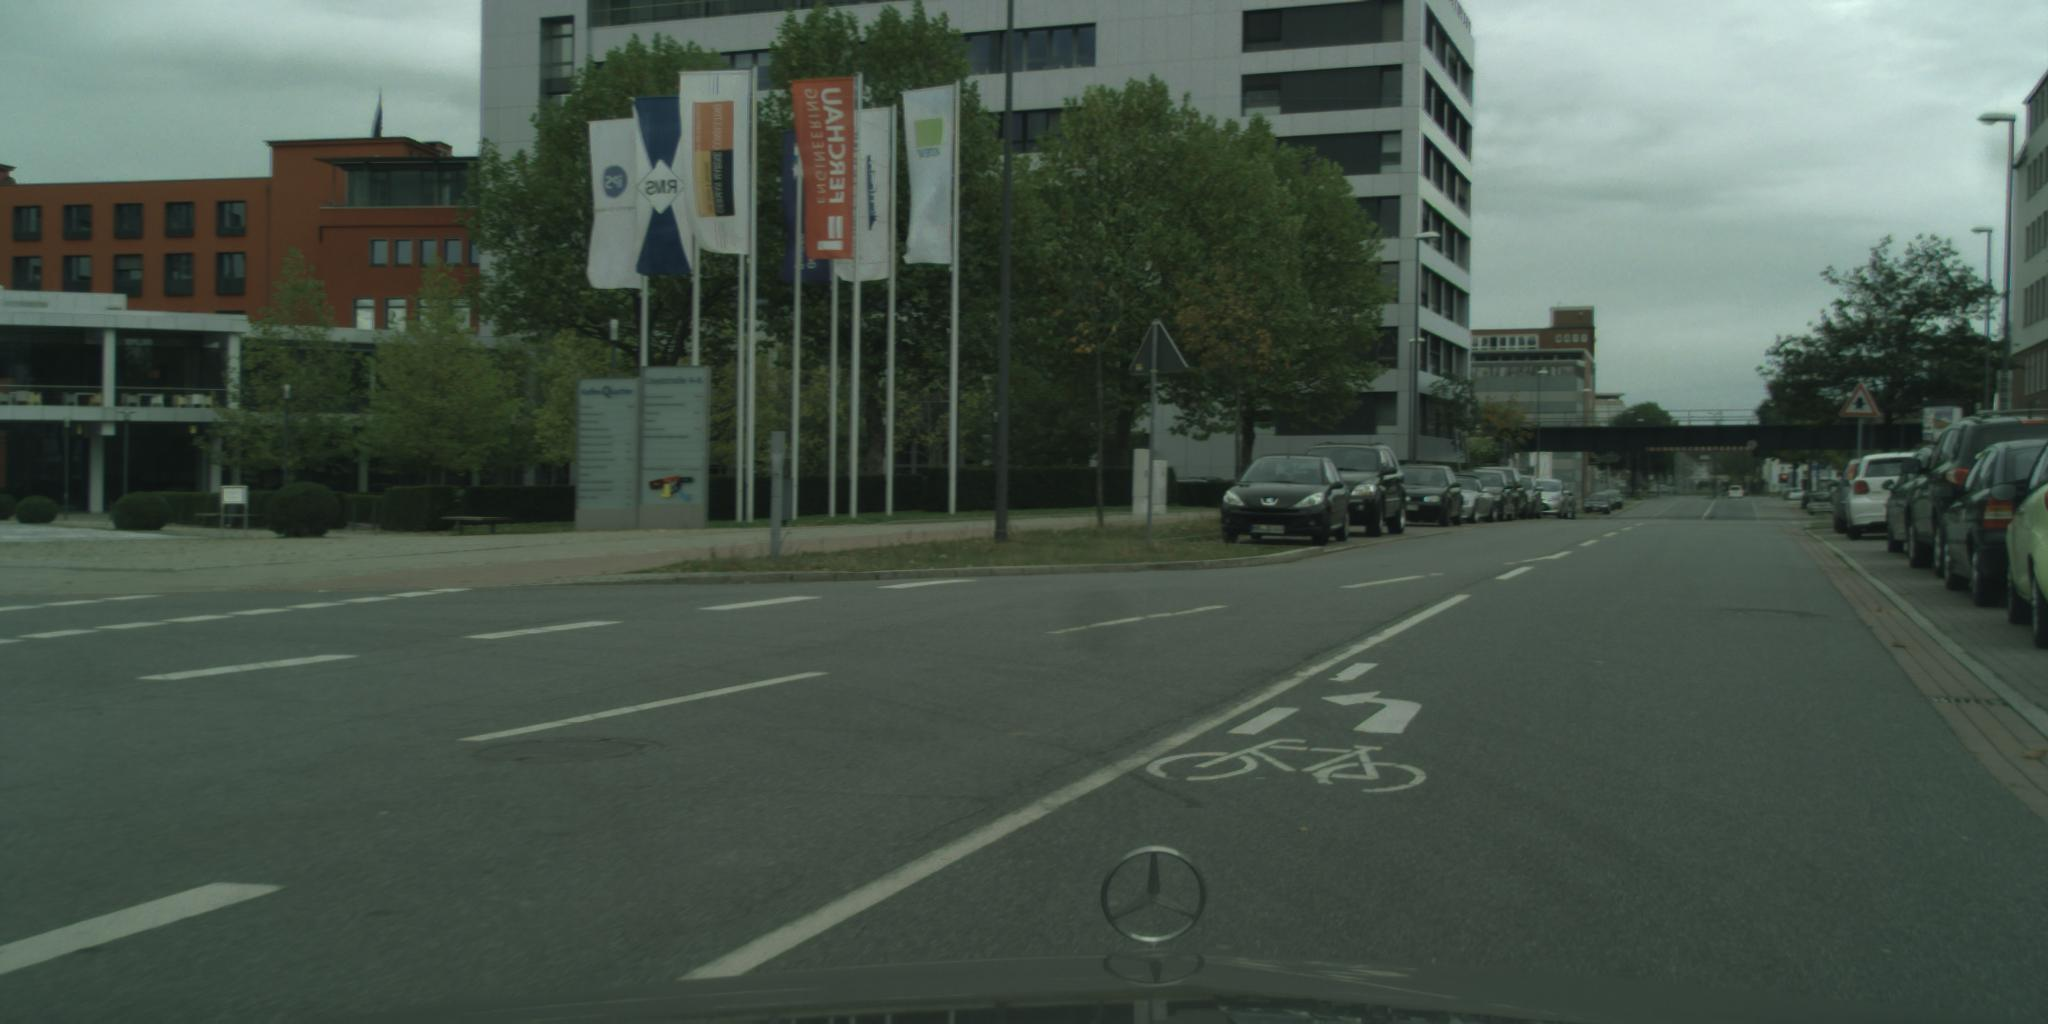car: (1903, 409, 2048, 579), (1934, 439, 2048, 609), (1221, 455, 1351, 547), (1992, 440, 2048, 650), (1306, 441, 1408, 539), (1846, 453, 1924, 543), (1882, 445, 1942, 554), (1390, 465, 1464, 529), (1829, 460, 1874, 533), (1479, 468, 1528, 519), (1471, 470, 1516, 522), (1452, 477, 1498, 525), (1531, 479, 1573, 521), (1516, 477, 1545, 519), (1806, 492, 1836, 516), (1558, 487, 1578, 519), (1584, 494, 1613, 515), (1174, 477, 1223, 487), (1597, 490, 1618, 509), (1604, 491, 1625, 509), (1788, 488, 1806, 502), (1728, 486, 1745, 499)
